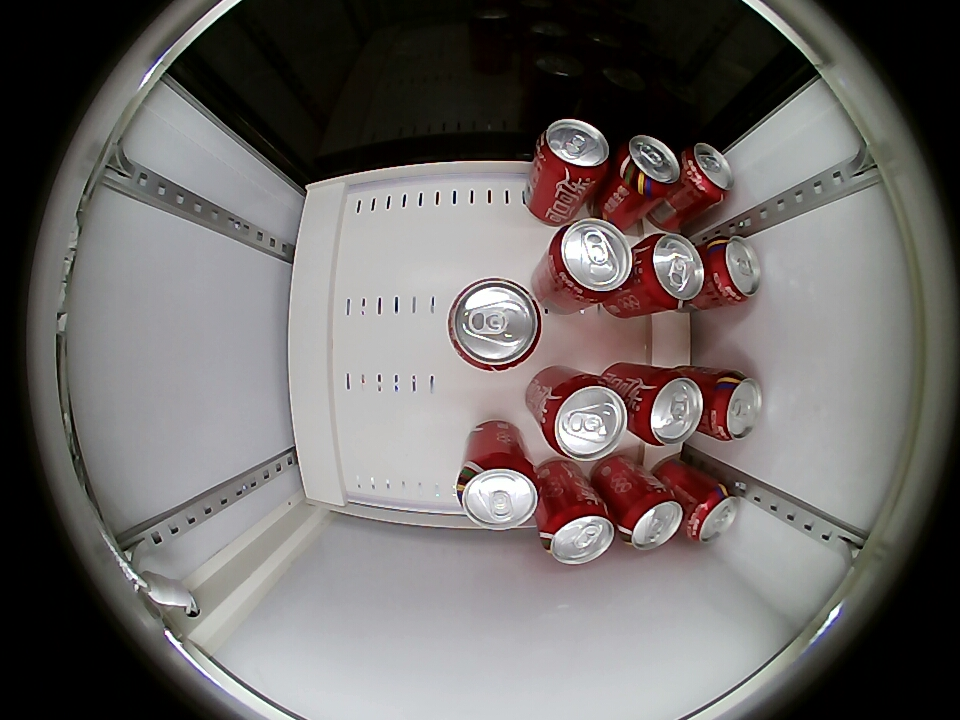kele: (447, 276, 544, 373), (540, 375, 629, 461), (548, 217, 633, 305), (456, 452, 539, 530), (635, 231, 705, 311), (634, 369, 704, 448), (539, 501, 615, 566), (535, 119, 611, 182), (618, 490, 684, 551), (706, 236, 762, 305), (708, 371, 763, 441), (616, 135, 681, 194), (682, 142, 735, 203), (686, 484, 739, 544)
